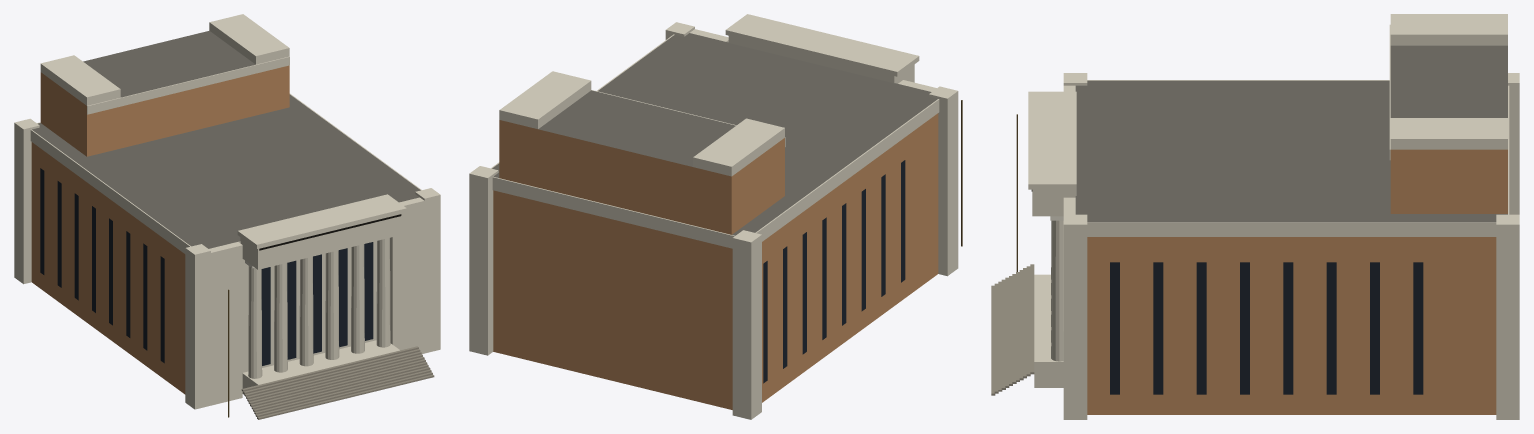
Rendered from robinson-auditorium.glb.
3 renders of one model, left to right at view 1: azimuth 30°, elevation 25°; view 2: azimuth 150°, elevation 25°; view 3: azimuth 270°, elevation 25°, orthographic. The views are drawn at different scales.
Parts seen in each view (by area): view 1: robinson_stone, robinson_roof, robinson_brick, robinson_glass, robinson_base; view 2: robinson_brick, robinson_stone, robinson_roof, robinson_glass; view 3: robinson_brick, robinson_roof, robinson_stone, robinson_glass, robinson_base.
Part boxes in pixels (bbox=[...]): robinson_stone: bbox=[14, 14, 440, 409]; robinson_roof: bbox=[32, 30, 420, 248]; robinson_brick: bbox=[31, 65, 289, 394]; robinson_glass: bbox=[40, 168, 373, 365]; robinson_base: bbox=[241, 346, 434, 419]; robinson_brick: bbox=[493, 113, 938, 409]; robinson_stone: bbox=[469, 14, 958, 419]; robinson_roof: bbox=[492, 33, 937, 235]; robinson_glass: bbox=[763, 160, 905, 383]; robinson_brick: bbox=[1087, 149, 1507, 414]; robinson_roof: bbox=[1075, 45, 1507, 222]; robinson_stone: bbox=[1028, 14, 1519, 419]; robinson_glass: bbox=[1110, 262, 1423, 394]; robinson_base: bbox=[991, 264, 1034, 395].
Bounding box in the file's own units: 36.4 × 30 × 53.67.
